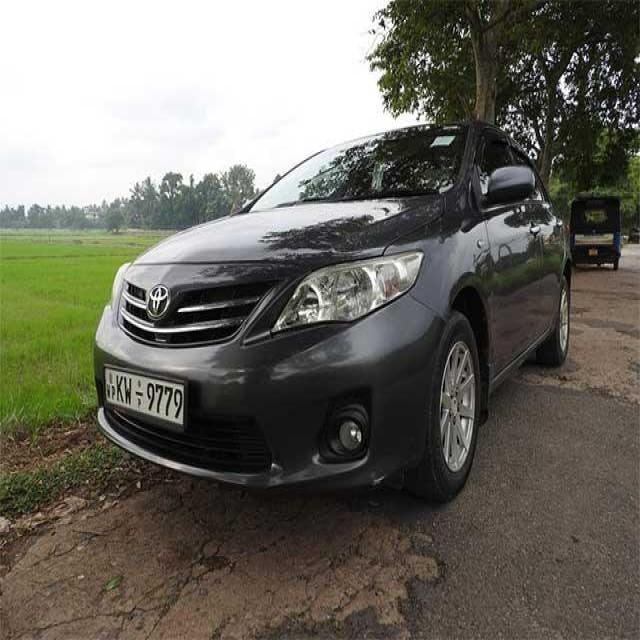license-plate: (103, 367, 183, 424)
